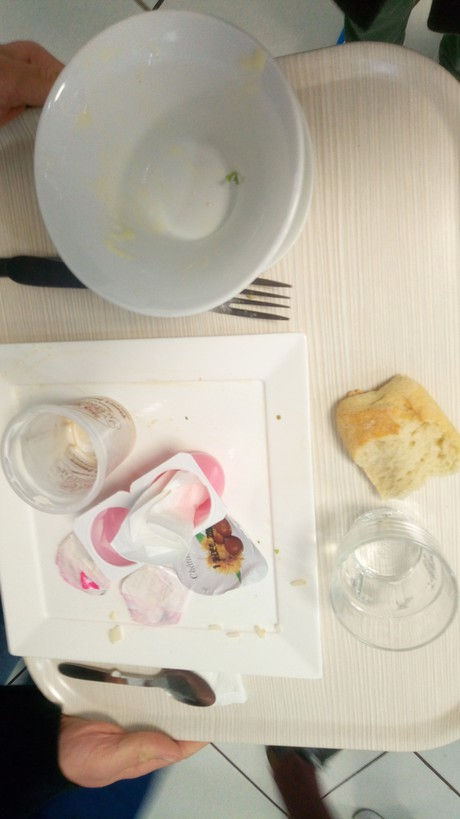cup: (312, 495, 455, 690)
cutlery: (59, 651, 221, 707), (216, 276, 299, 322)
orga: (328, 367, 460, 492)
trash: (102, 473, 273, 629), (3, 393, 113, 508)
